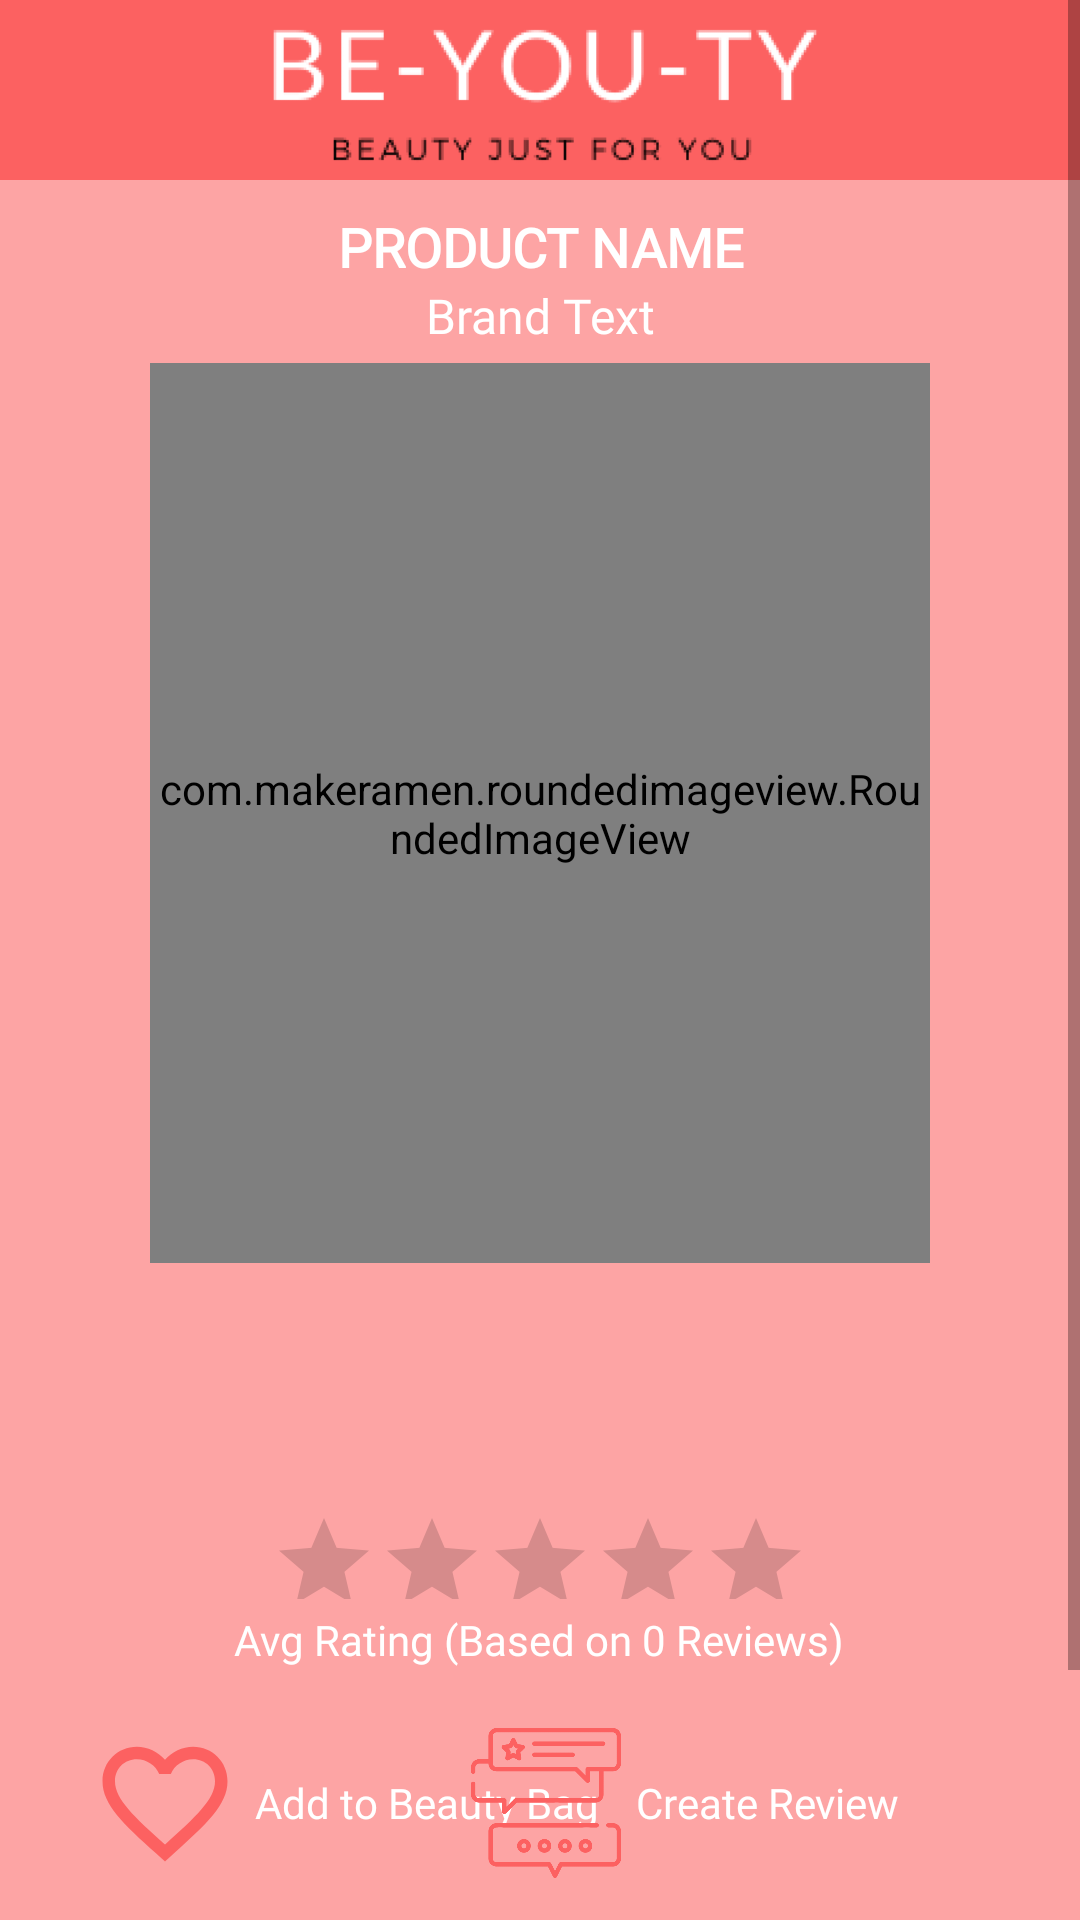

Screen size 1080 × 1920. Icon name, then its center in pixels as [x,y]:
favorite border: [165,1804]
